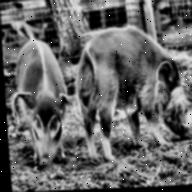boar: (67, 21, 192, 169), (5, 27, 77, 172)
